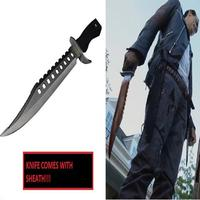knife: (1, 6, 103, 142), (106, 26, 144, 164)
